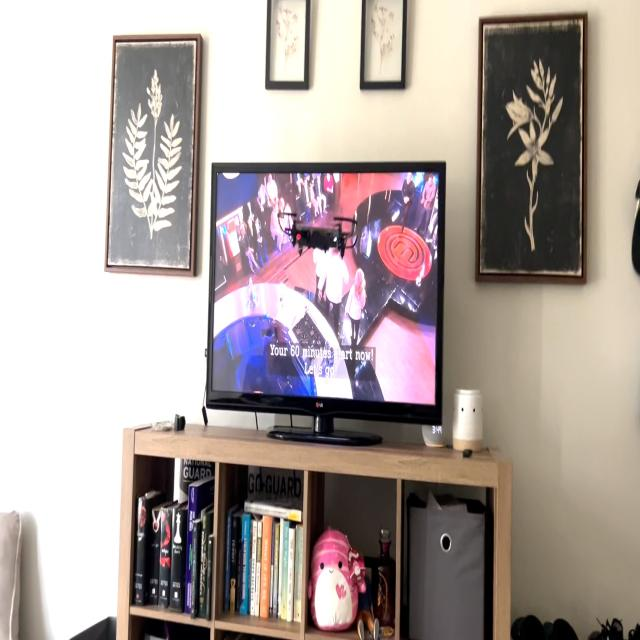drone: (273, 198, 368, 264)
